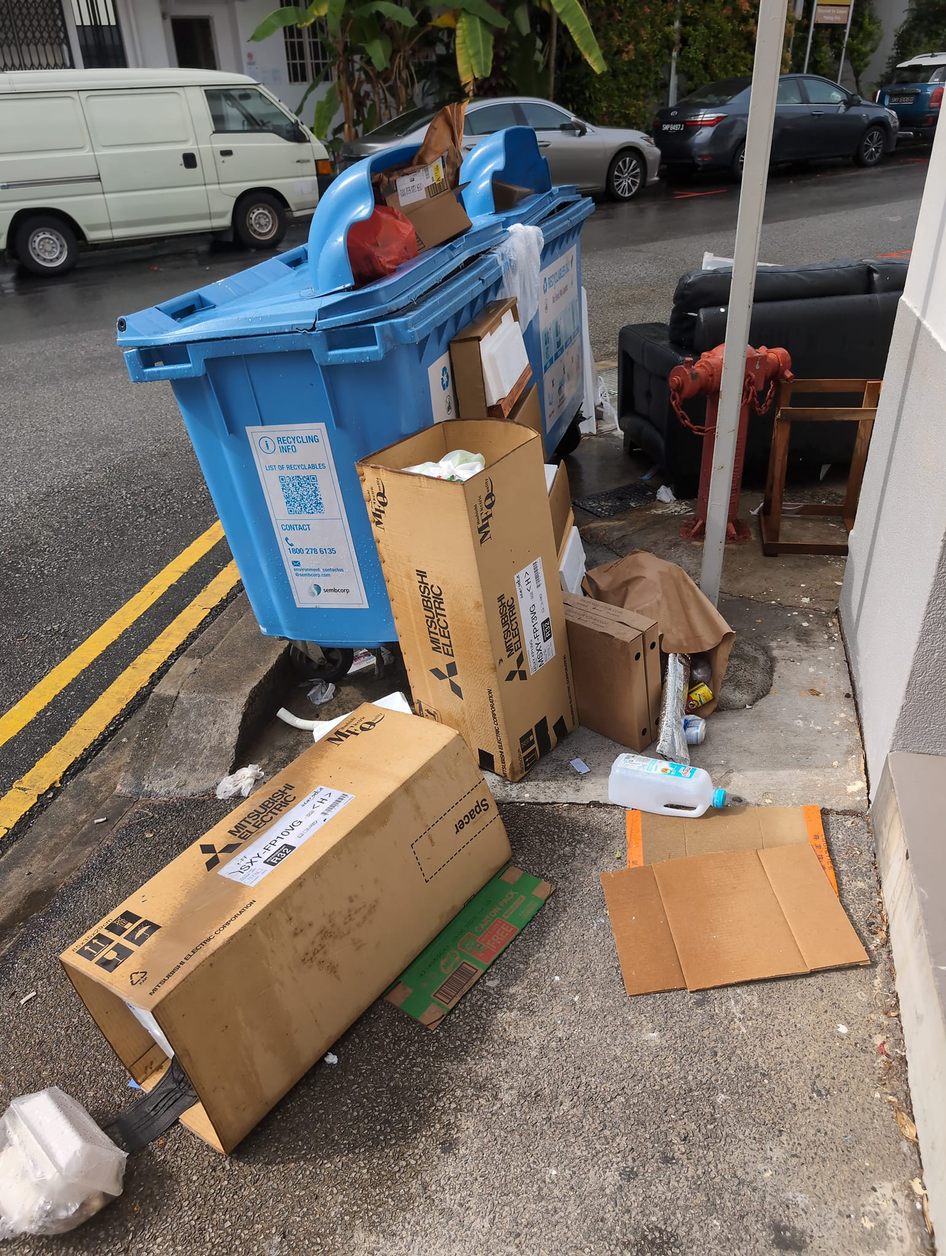bin_empty: (461, 126, 593, 453)
bin_full: (118, 105, 501, 646)
bulk_waste: (61, 703, 510, 1152), (357, 420, 577, 781), (601, 806, 868, 995), (617, 271, 728, 496), (587, 550, 734, 714), (749, 259, 905, 378), (563, 592, 661, 751), (796, 424, 853, 464), (747, 412, 771, 471)
normal_waste: (0, 1086, 126, 1239), (609, 753, 725, 818)
vehicle: (0, 69, 328, 275), (462, 95, 660, 201), (770, 74, 899, 165), (652, 77, 750, 177), (339, 105, 435, 170), (876, 51, 945, 137)
